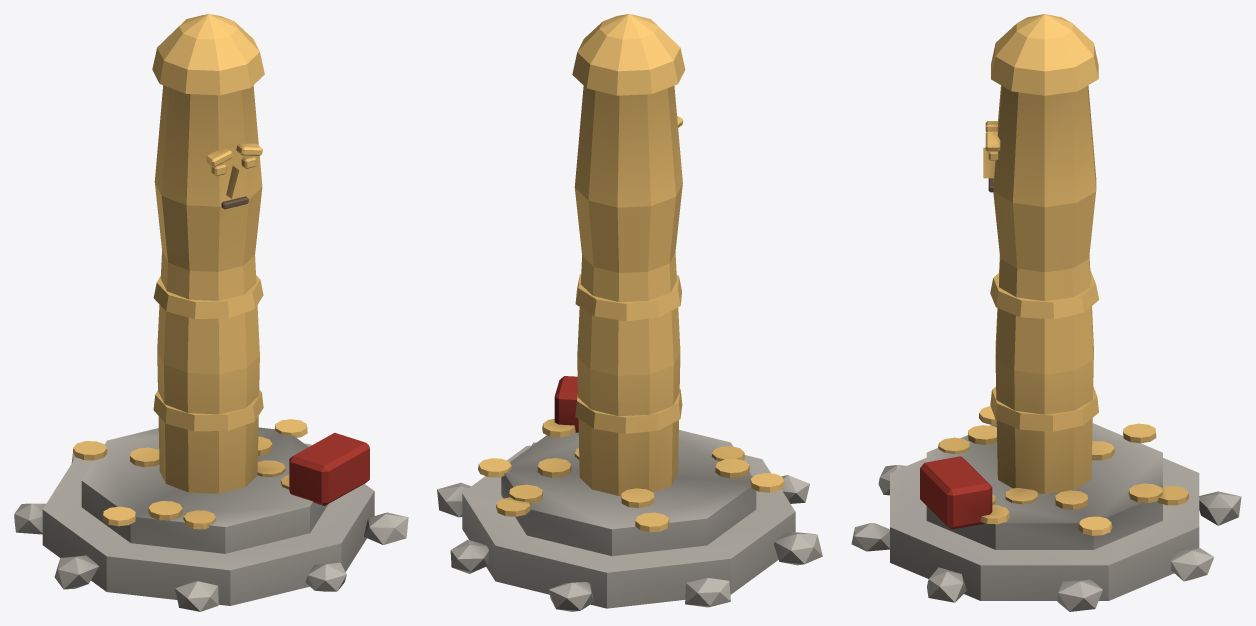
File: idol_gold.glb
The picture shows the model from 3 angles, left to right: view 1: azimuth 30°, elevation 25°; view 2: azimuth 150°, elevation 25°; view 3: azimuth 270°, elevation 25°; orthographic projection.
Parts seen in each view (by area): view 1: idol_gold; view 2: idol_gold; view 3: idol_gold.
Part boxes in pixels (x1=…): idol_gold: x1=14, y1=14, x2=408, y2=611; idol_gold: x1=437, y1=14, x2=822, y2=611; idol_gold: x1=851, y1=14, x2=1241, y2=611.
Size of the model in its own units: 0.7985 by 1.18 by 0.7928.
